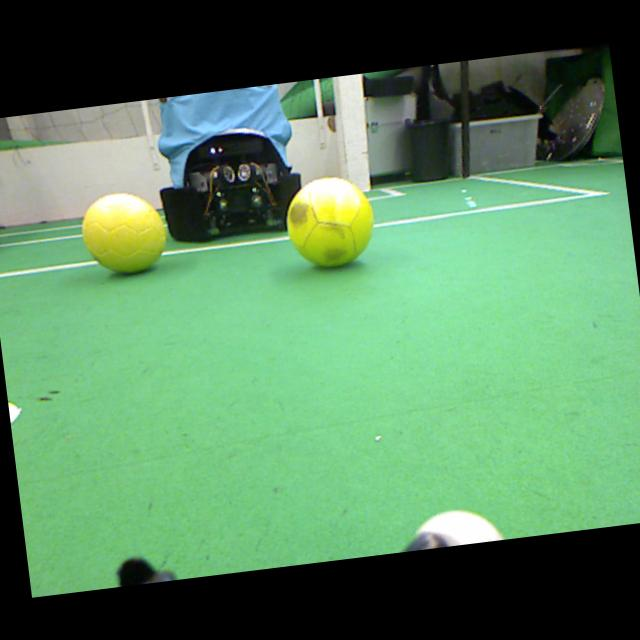ball: (286, 176, 374, 267), (81, 193, 166, 272)
goal: (336, 73, 370, 192)
